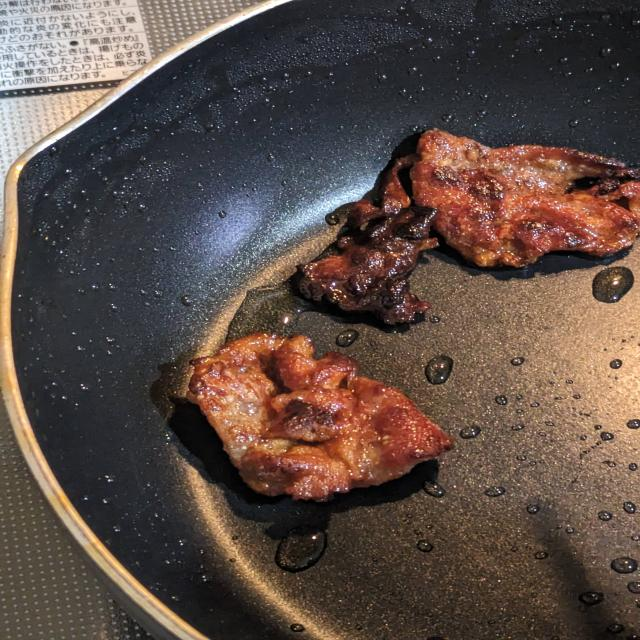overcooked pork: (282, 121, 640, 325), (187, 327, 474, 504)
